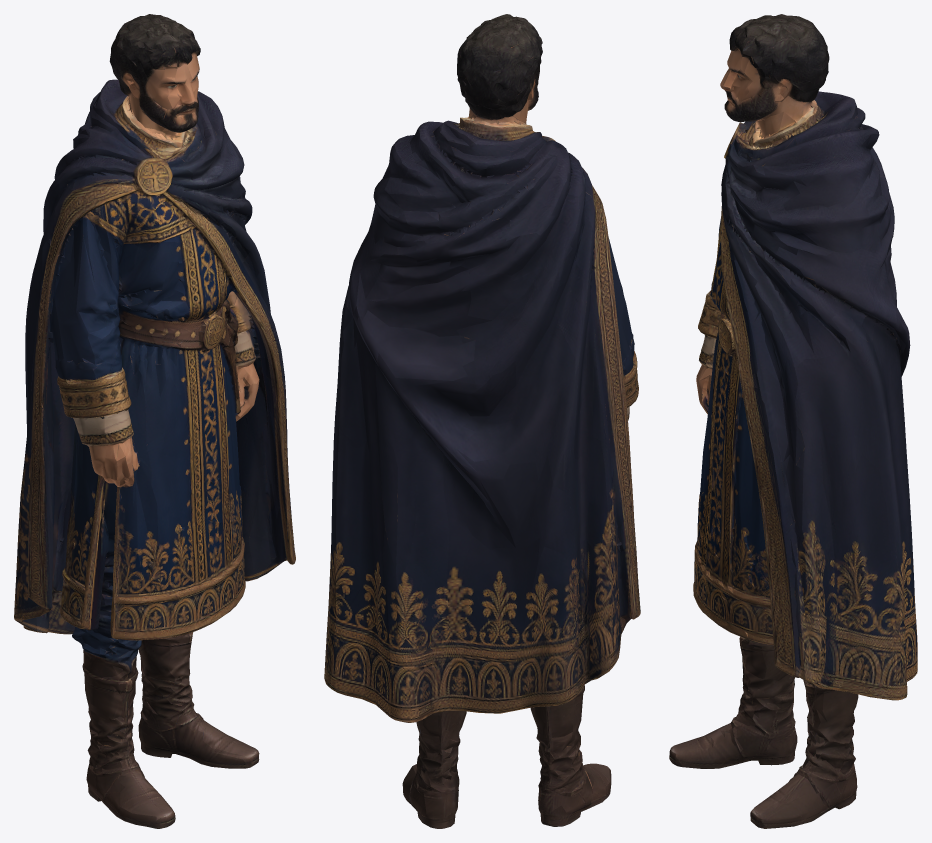
File: envoy.glb
3 views of the same model, side by side, from view 1: azimuth 30°, elevation 25°; view 2: azimuth 150°, elevation 25°; view 3: azimuth 270°, elevation 25° (orthographic). The views are drawn at different scales.
Size of the model in its own units: 0.7289 by 1.9 by 0.5574.
1 material, 1 textured.
